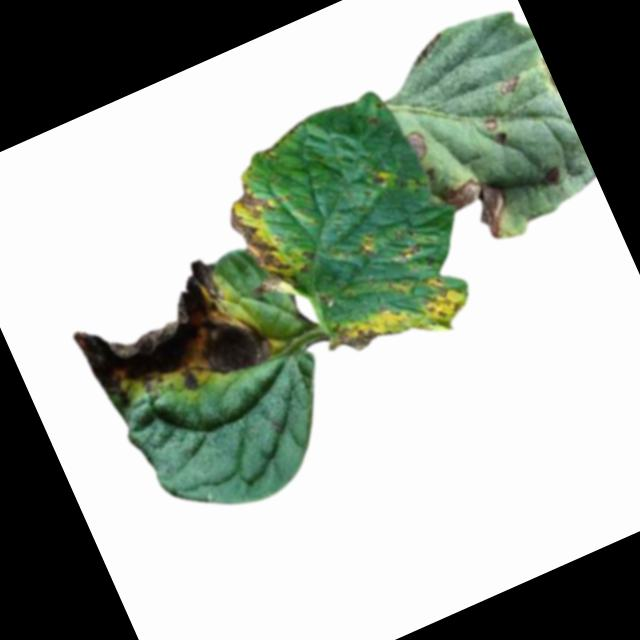Early_blight: (62, 242, 277, 429), (218, 172, 315, 304), (438, 166, 523, 252), (319, 304, 395, 362), (413, 268, 465, 326), (405, 126, 432, 160), (494, 71, 525, 97), (368, 166, 389, 188), (481, 112, 500, 132)
